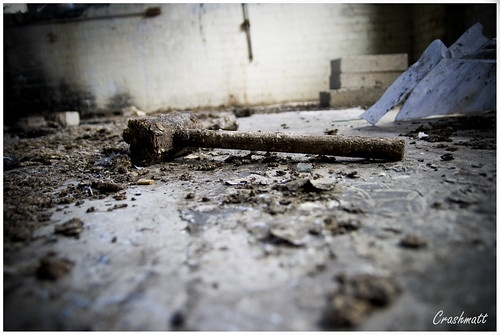hammer: (123, 114, 405, 170)
